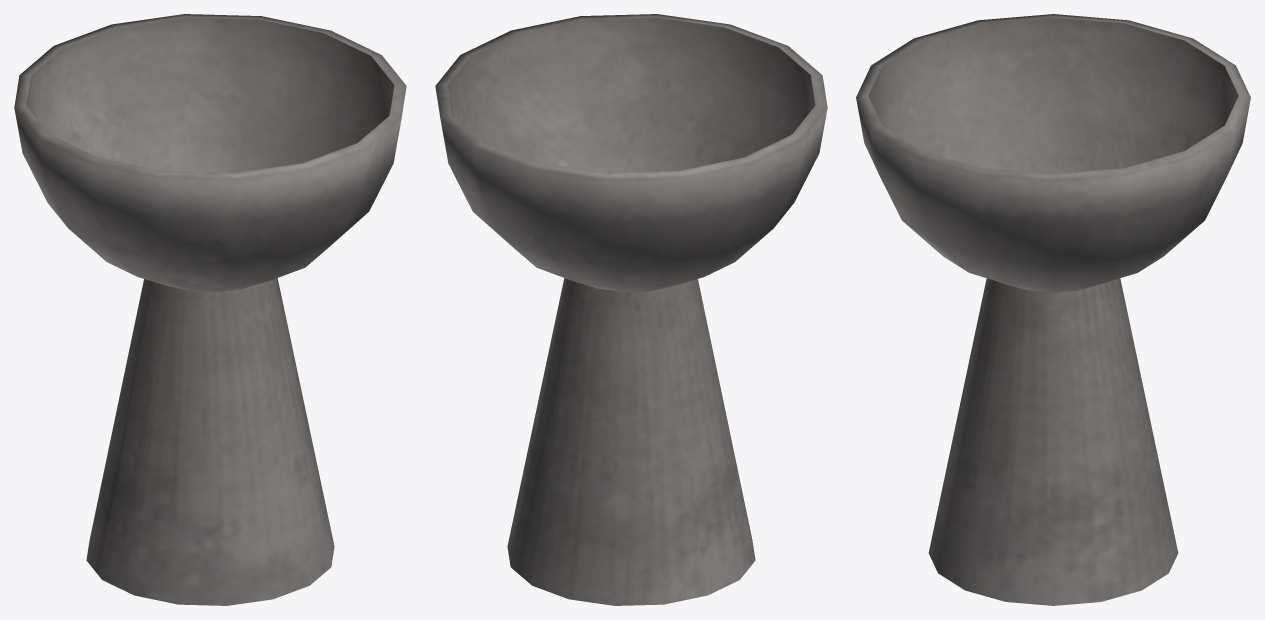
File: o_com_zhuangshi_05.fbx
3 renders of one model, left to right at view 1: azimuth 30°, elevation 25°; view 2: azimuth 150°, elevation 25°; view 3: azimuth 270°, elevation 25°, orthographic.
Visible parts, largest first — view 1: o_com_zhuangshi_05; view 2: o_com_zhuangshi_05; view 3: o_com_zhuangshi_05.
Part boxes in pixels (x1,y1,x2,y2): o_com_zhuangshi_05: [14, 14, 406, 605]; o_com_zhuangshi_05: [435, 14, 827, 605]; o_com_zhuangshi_05: [856, 14, 1250, 605].
Size of the model in its own units: 17 by 21.73 by 17.
